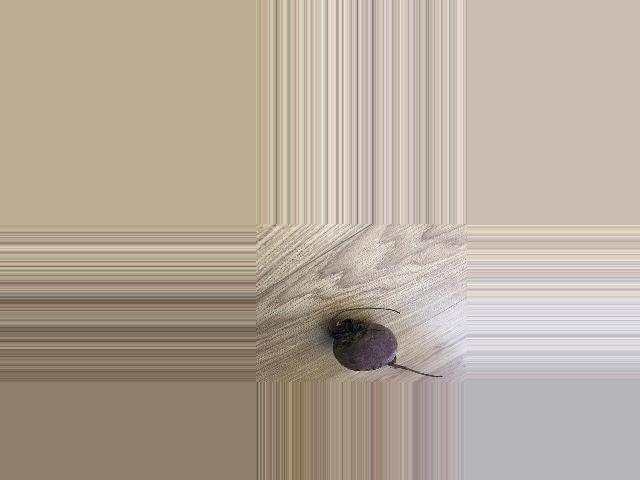beet: (329, 308, 443, 377)
